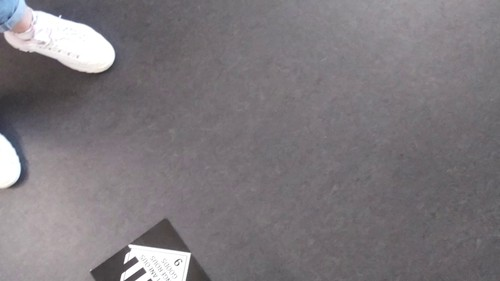misgoods: (116, 239, 192, 281)
